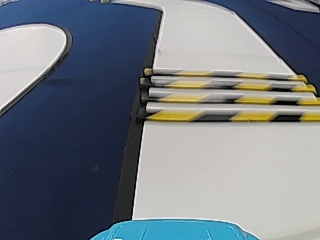bump: (164, 69, 288, 123)
